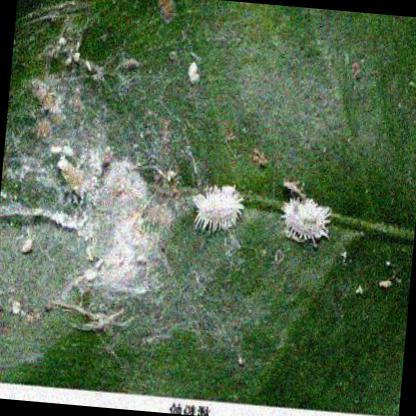mealy bug: (192, 185, 245, 232), (280, 200, 333, 243)
